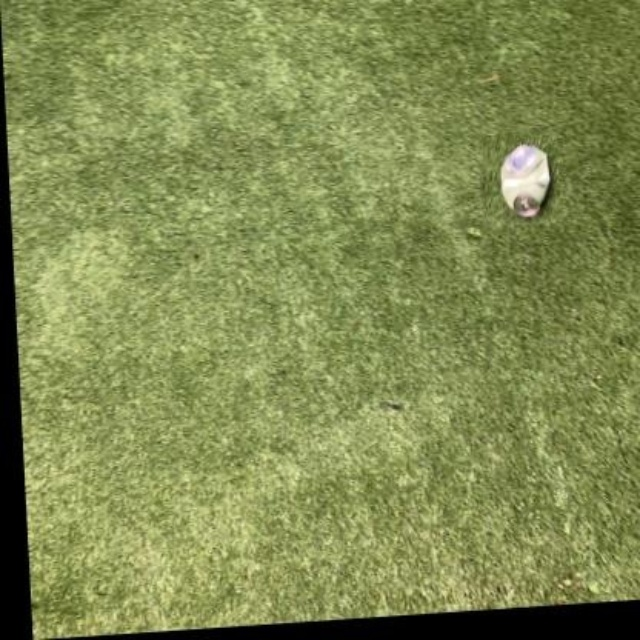trash: (502, 145, 549, 215)
